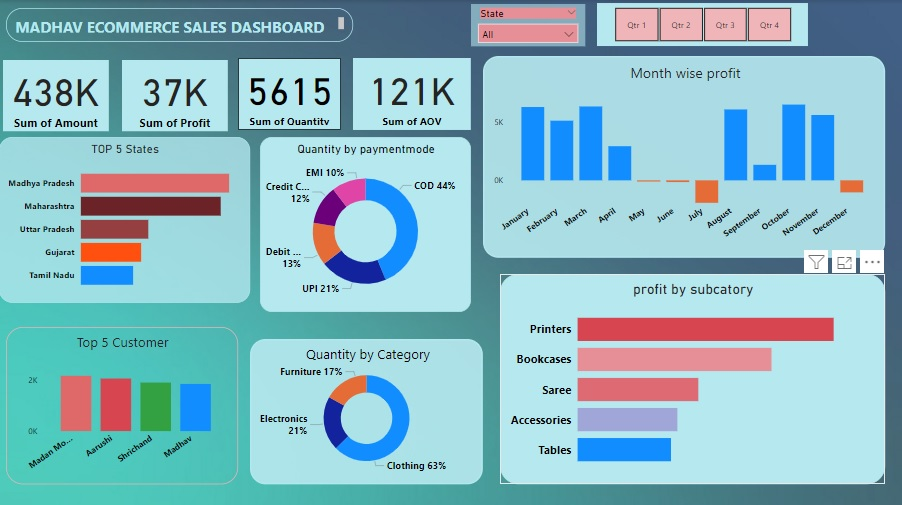

Layout of this report page (visuals, bound fields, positions):
{"tool":"powerbi","page":{"name":"Page 1","canvas":[1280,720],"ordinal":0},"visuals":[{"type":"textbox","box":[9.9,11.3,491.8,48.2],"z":0},{"type":"columnChart","title":"Month wise profit","fields":{"Category":["Orders.Order Date.Variation.Date Hierarchy.Month"],"Y":["Details.Profit"]},"box":[686,79.4,569.8,286.3],"z":1000},{"type":"clusteredBarChart","title":"TOP 5 States","fields":{"Category":["Orders.State"],"Y":["Details.Profit"]},"box":[0,194.2,355.7,235.3],"z":2000},{"type":"columnChart","title":"Top 5 Customer","fields":{"Category":["Orders.CustomerName"],"Y":["Details.Profit"]},"box":[9.9,463.5,328.8,222.5],"z":3000},{"type":"donutChart","title":"Quantity by Category","fields":{"Category":["Details.Category"],"Y":["Details.Quantity"]},"box":[355.7,480.5,330.2,205.5],"z":4000},{"type":"donutChart","title":"Quantity by paymentmode","fields":{"Category":["Details.PaymentMode"],"Y":["Details.Quantity"]},"box":[369.9,194.2,299.1,248],"z":5000},{"type":"clusteredBarChart","title":"profit by subcatory","fields":{"Category":["Details.Sub-Category"],"Y":["Details.Profit"]},"box":[710.1,388.3,545.7,297.6],"z":6000},{"type":"card","fields":{"Values":["Details.Amount"]},"box":[5.7,85,150.2,100.6],"z":7000},{"type":"card","fields":{"Values":["Details.Profit"]},"box":[174.3,85,150.2,100.6],"z":8000},{"type":"card","fields":{"Values":["Details.Quantity"]},"box":[338.7,82.2,146,102],"z":9000},{"type":"card","fields":{"Values":["Details.AOV"]},"box":[501.7,82.2,167.2,102],"z":10000},{"type":"slicer","fields":{"Values":["Orders.Order Date.Variation.Date Hierarchy.Quarter"]},"box":[847.6,4.3,299.1,60.9],"z":11000},{"type":"slicer","fields":{"Values":["Orders.State"]},"box":[669,5.7,161.6,59.5],"z":12000}]}

Visuals, with their boxes in screenshot pixels (x1, y1, x2, y2), scaled from the page's 1280x720 canvas onto the 902x505 screenshot:
textbox: 7, 8, 354, 42
"Month wise profit" columnChart: 483, 56, 885, 256
"TOP 5 States" clusteredBarChart: 0, 136, 251, 301
"Top 5 Customer" columnChart: 7, 325, 239, 481
"Quantity by Category" donutChart: 251, 337, 483, 481
"Quantity by paymentmode" donutChart: 261, 136, 471, 310
"profit by subcatory" clusteredBarChart: 500, 272, 885, 481
card - Details.Amount: 4, 60, 110, 130
card - Details.Profit: 123, 60, 229, 130
card - Details.Quantity: 239, 58, 342, 129
card - Details.AOV: 354, 58, 471, 129
slicer - Orders.Order Date.Variation.Date Hierarchy.Quarter: 597, 3, 808, 46
slicer - Orders.State: 471, 4, 585, 46
